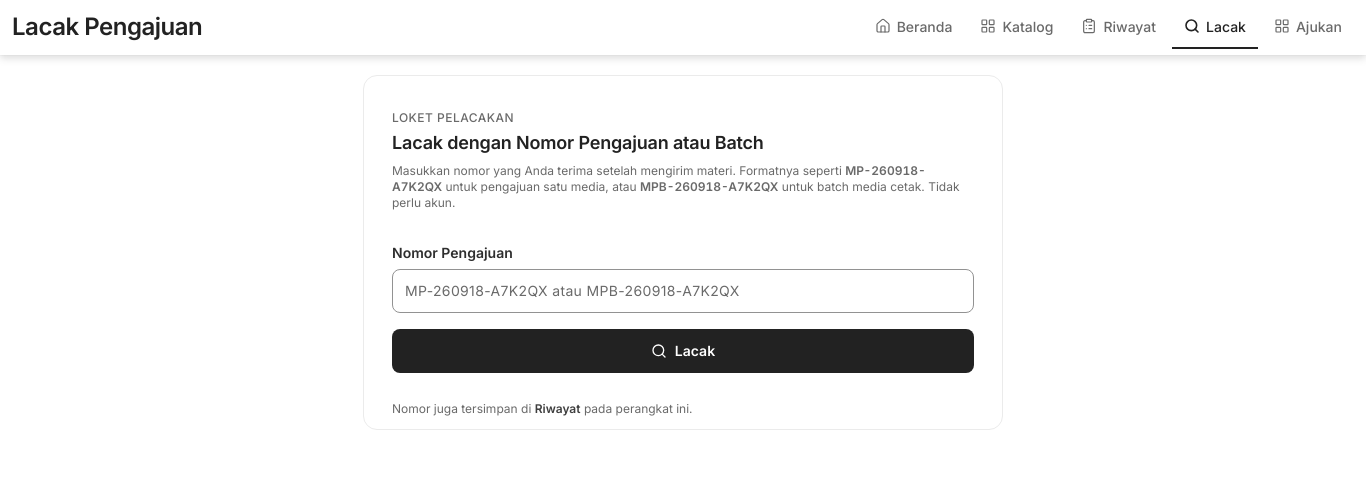
Test case: TrackSubmissionPage - jalur batch › batch tanpa batch_token → pesan jelas, tidak diarahkan ke rute kosong
Type "MPB-260918-A7K2QX" into the field labelled "Nomor Pengajuan". click: (683, 290)
box: x1=392 y1=268 x2=974 y2=312
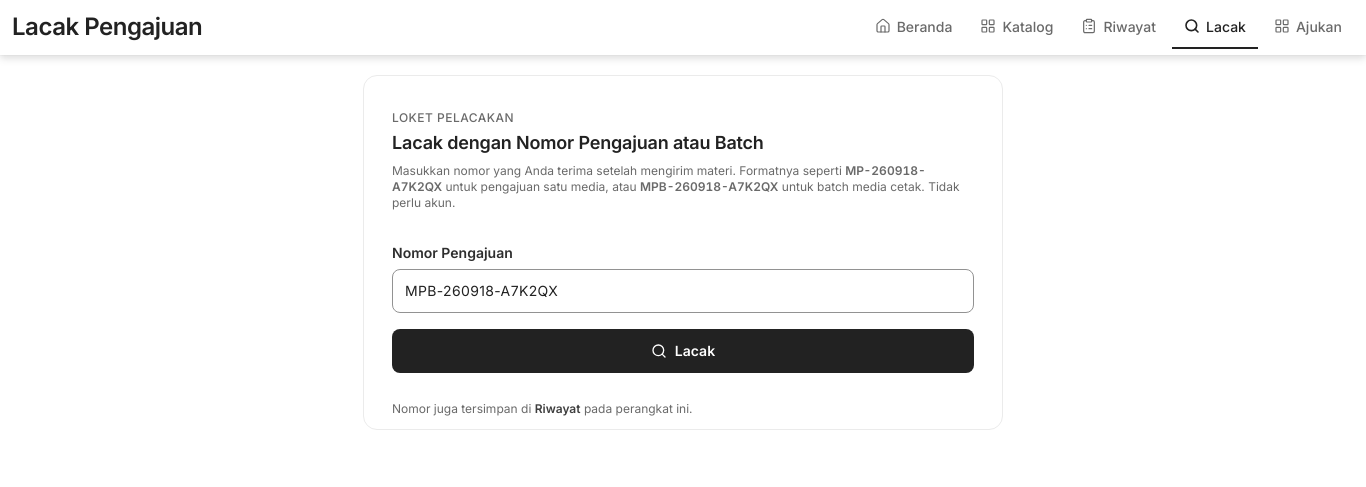
Click the button "Lacak". click: (683, 350)
box: x1=392 y1=328 x2=974 y2=372
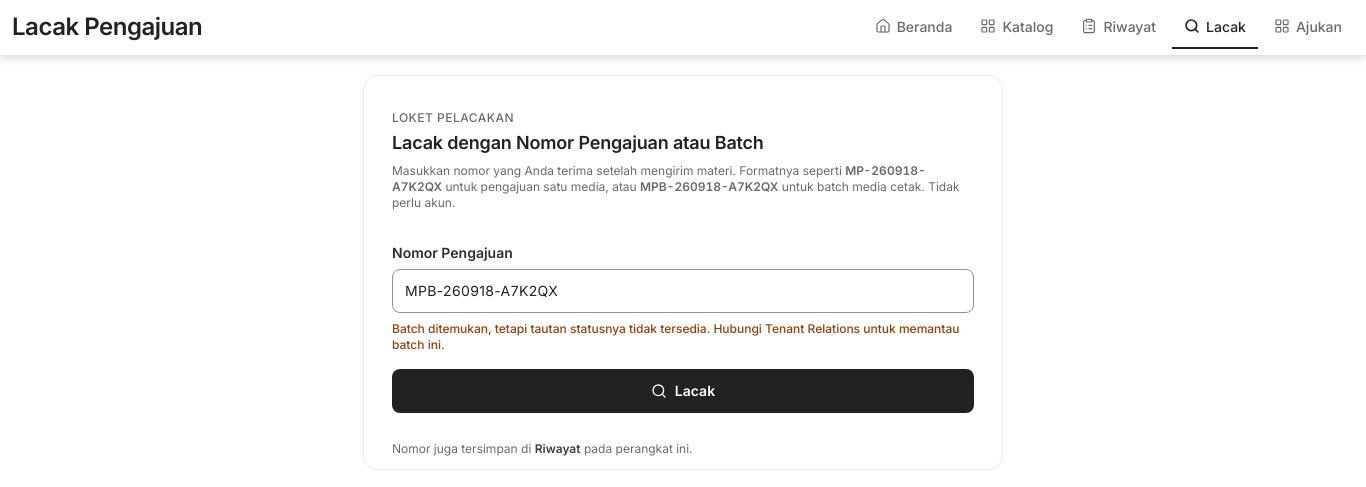
Now the text "tautan statusnya tidak tersedia" is shown, box x1=392 y1=320 x2=960 y2=352
